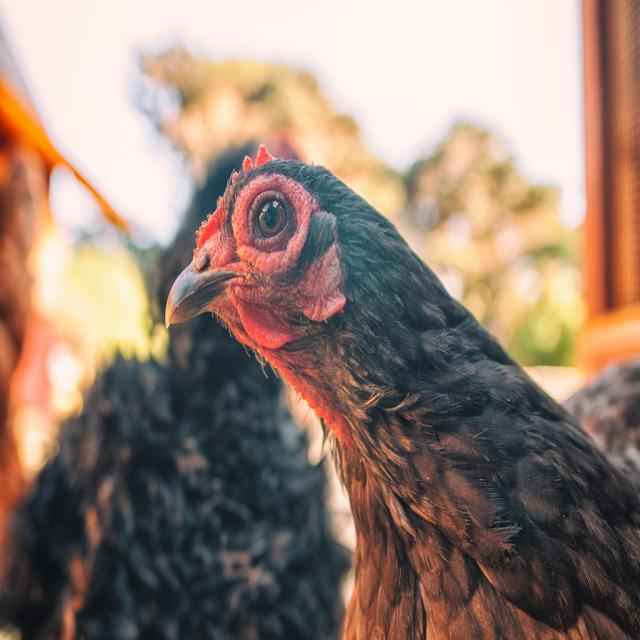Chicken: (176, 145, 640, 610)
